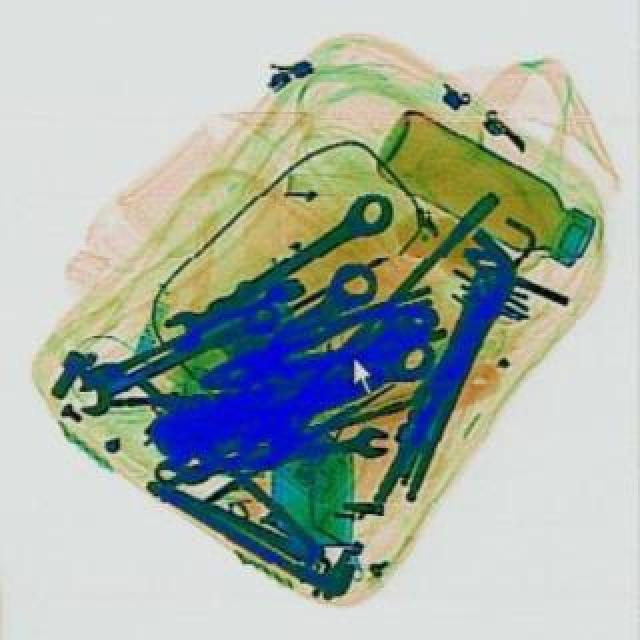scissors: (154, 182, 398, 352), (66, 292, 282, 420), (150, 420, 394, 486)
wrench: (188, 282, 444, 406)
